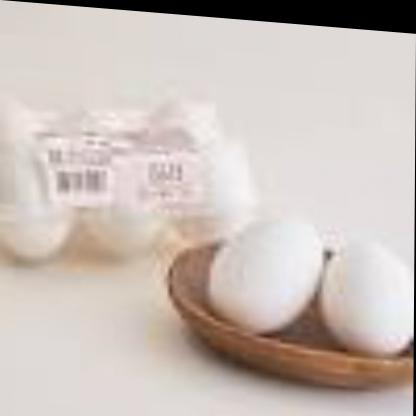egg: (198, 193, 328, 335), (319, 219, 415, 360)
